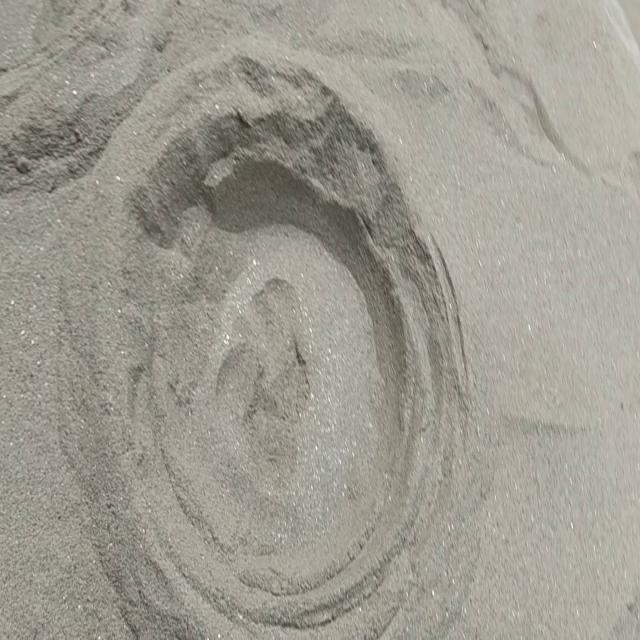C40: (144, 78, 447, 626)
